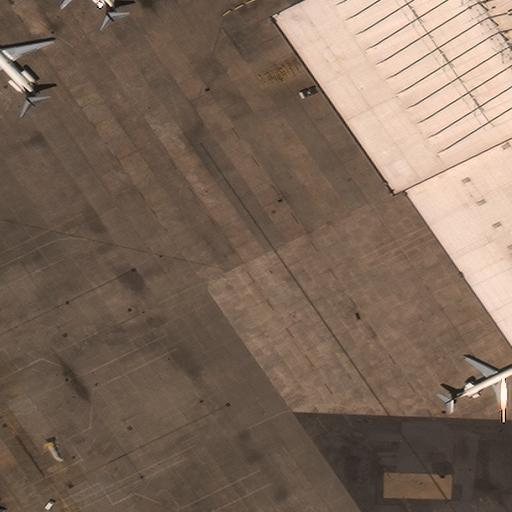Medium Civil Transport: (442, 355, 511, 423), (0, 22, 54, 106), (58, 0, 123, 24)
